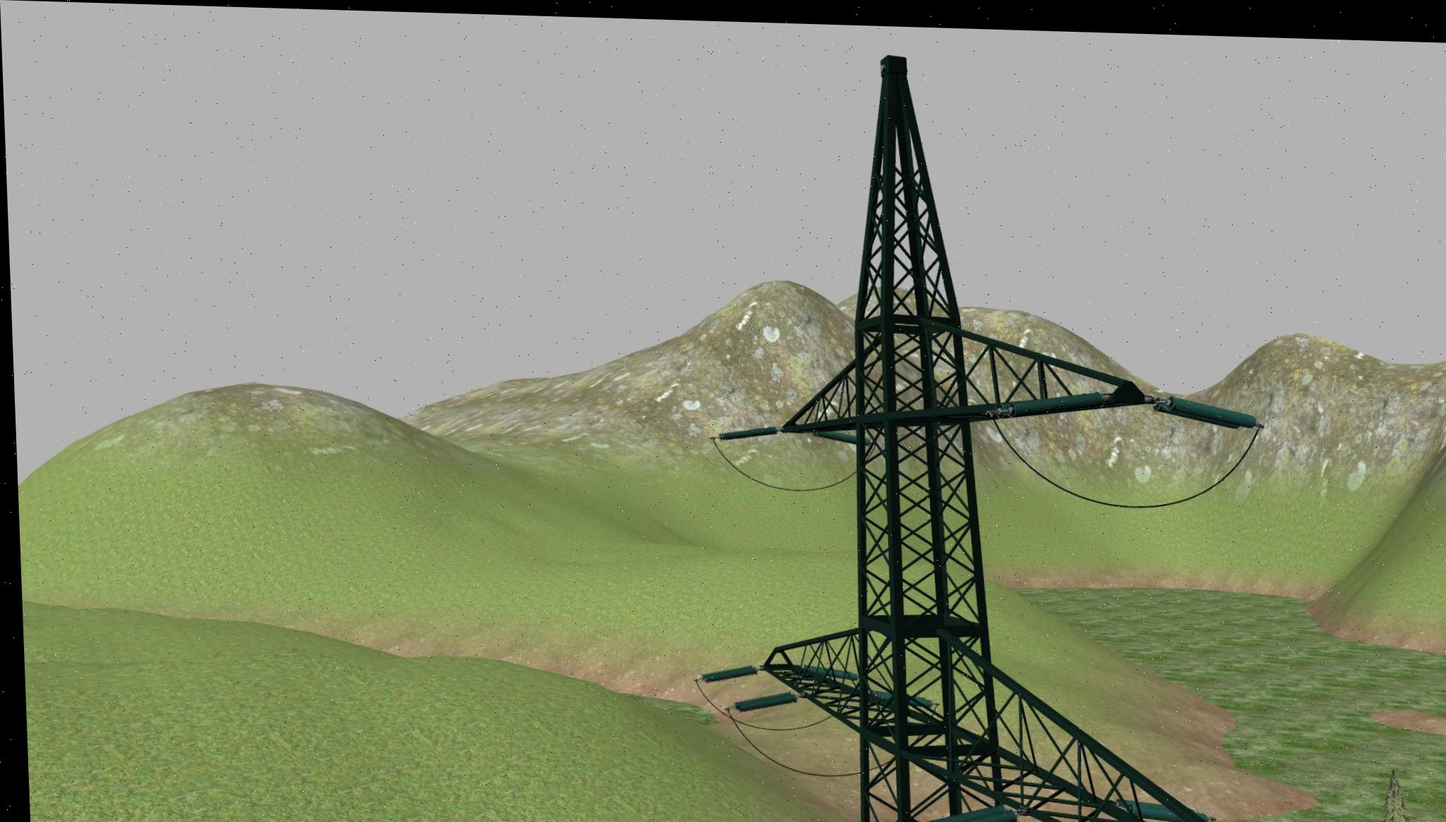tower: (728, 44, 1247, 822)
